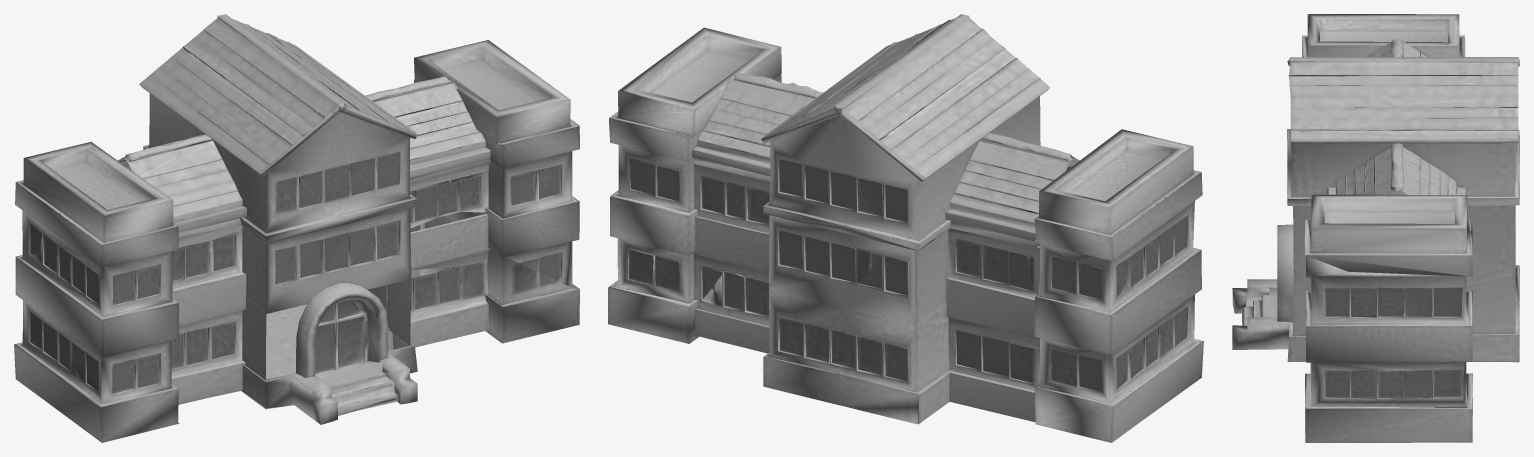
File: 31-school-building.glb
3 views of the same model, side by side, from view 1: azimuth 30°, elevation 25°; view 2: azimuth 150°, elevation 25°; view 3: azimuth 270°, elevation 25° (orthographic). The views are drawn at different scales.
Visible parts, largest first — view 1: geometry_0; view 2: geometry_0; view 3: geometry_0.
Boxes of the visible parts, <box> form: geometry_0: <box>14,14,579,442</box>; geometry_0: <box>608,14,1203,442</box>; geometry_0: <box>1232,14,1519,442</box>.
Size of the model in its own units: 0.9561 by 0.545 by 0.5229.
Materials: 1 (1 with a texture image).
